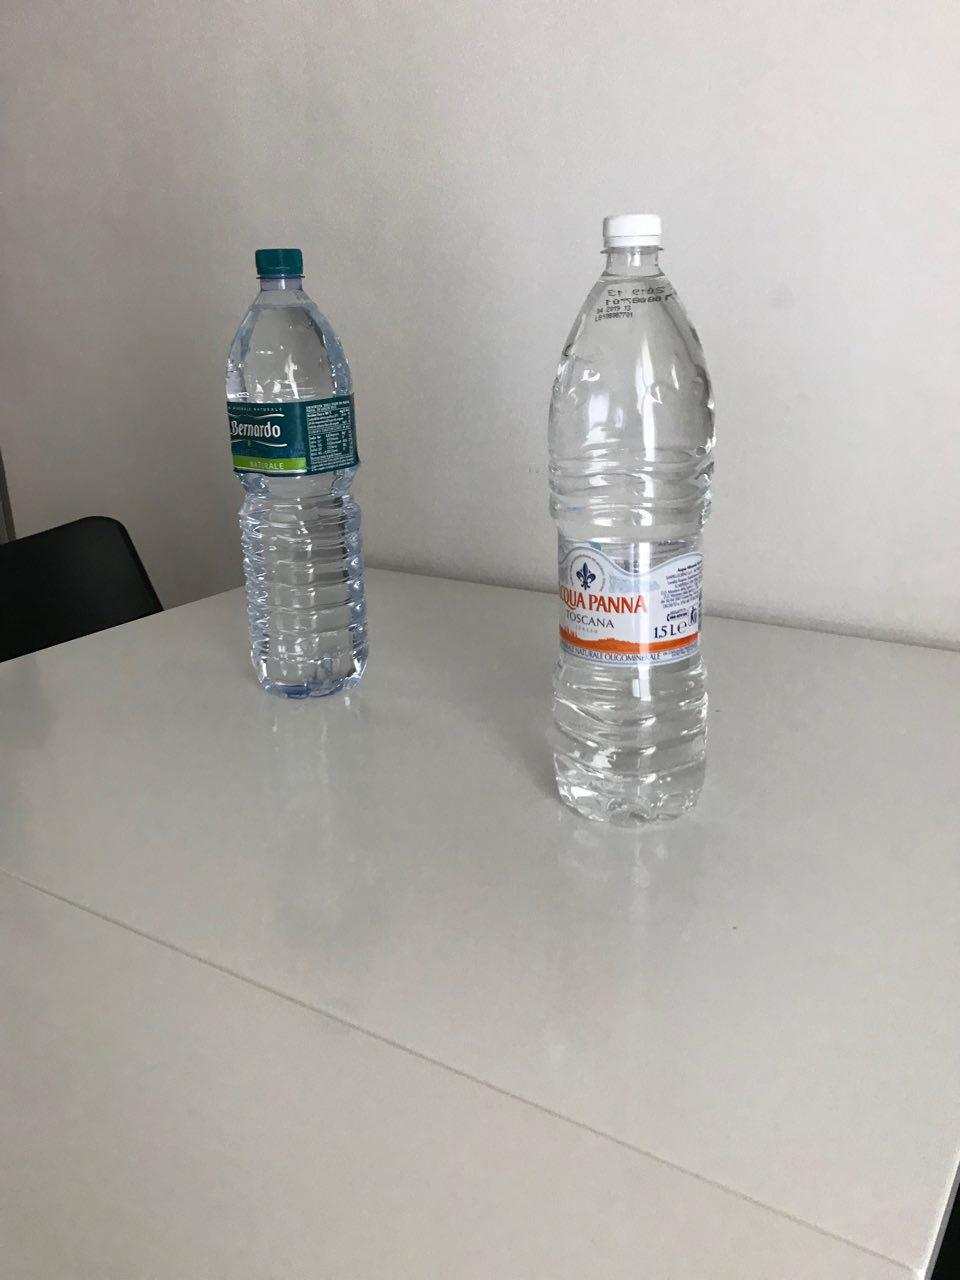san_bernardo: (224, 246, 368, 699)
